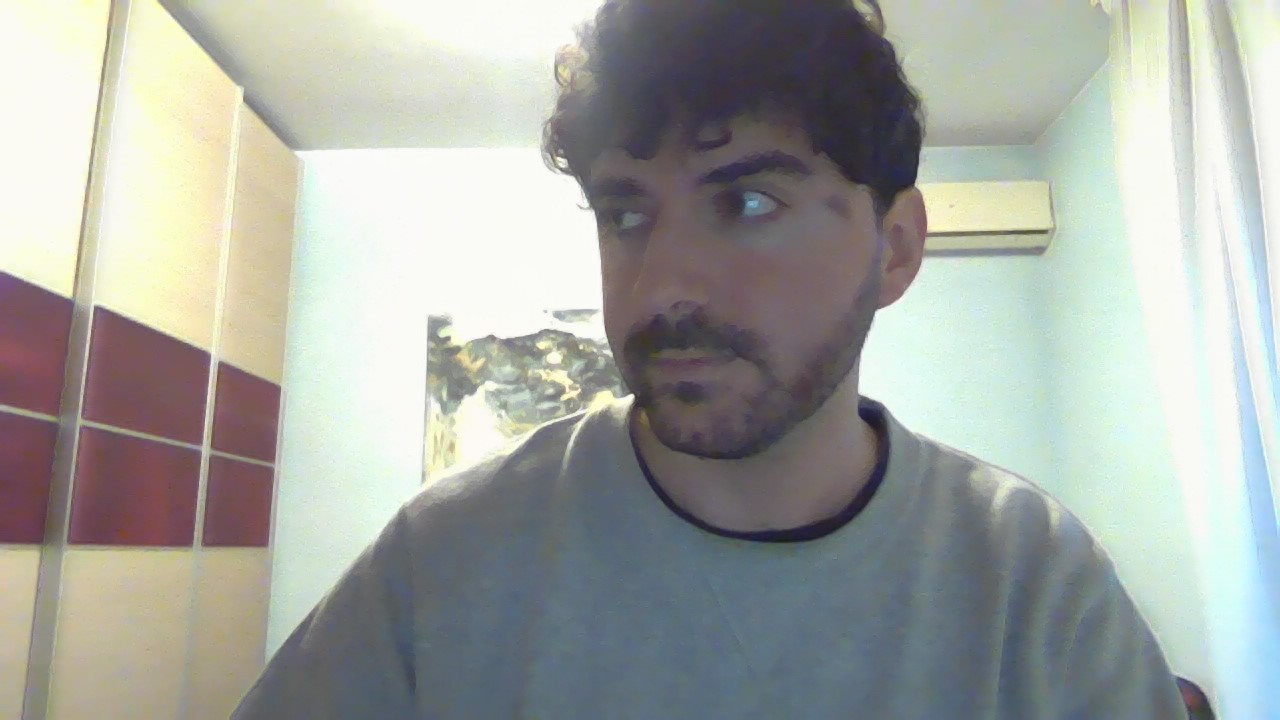NoGlasses: (554, 159, 910, 236)
